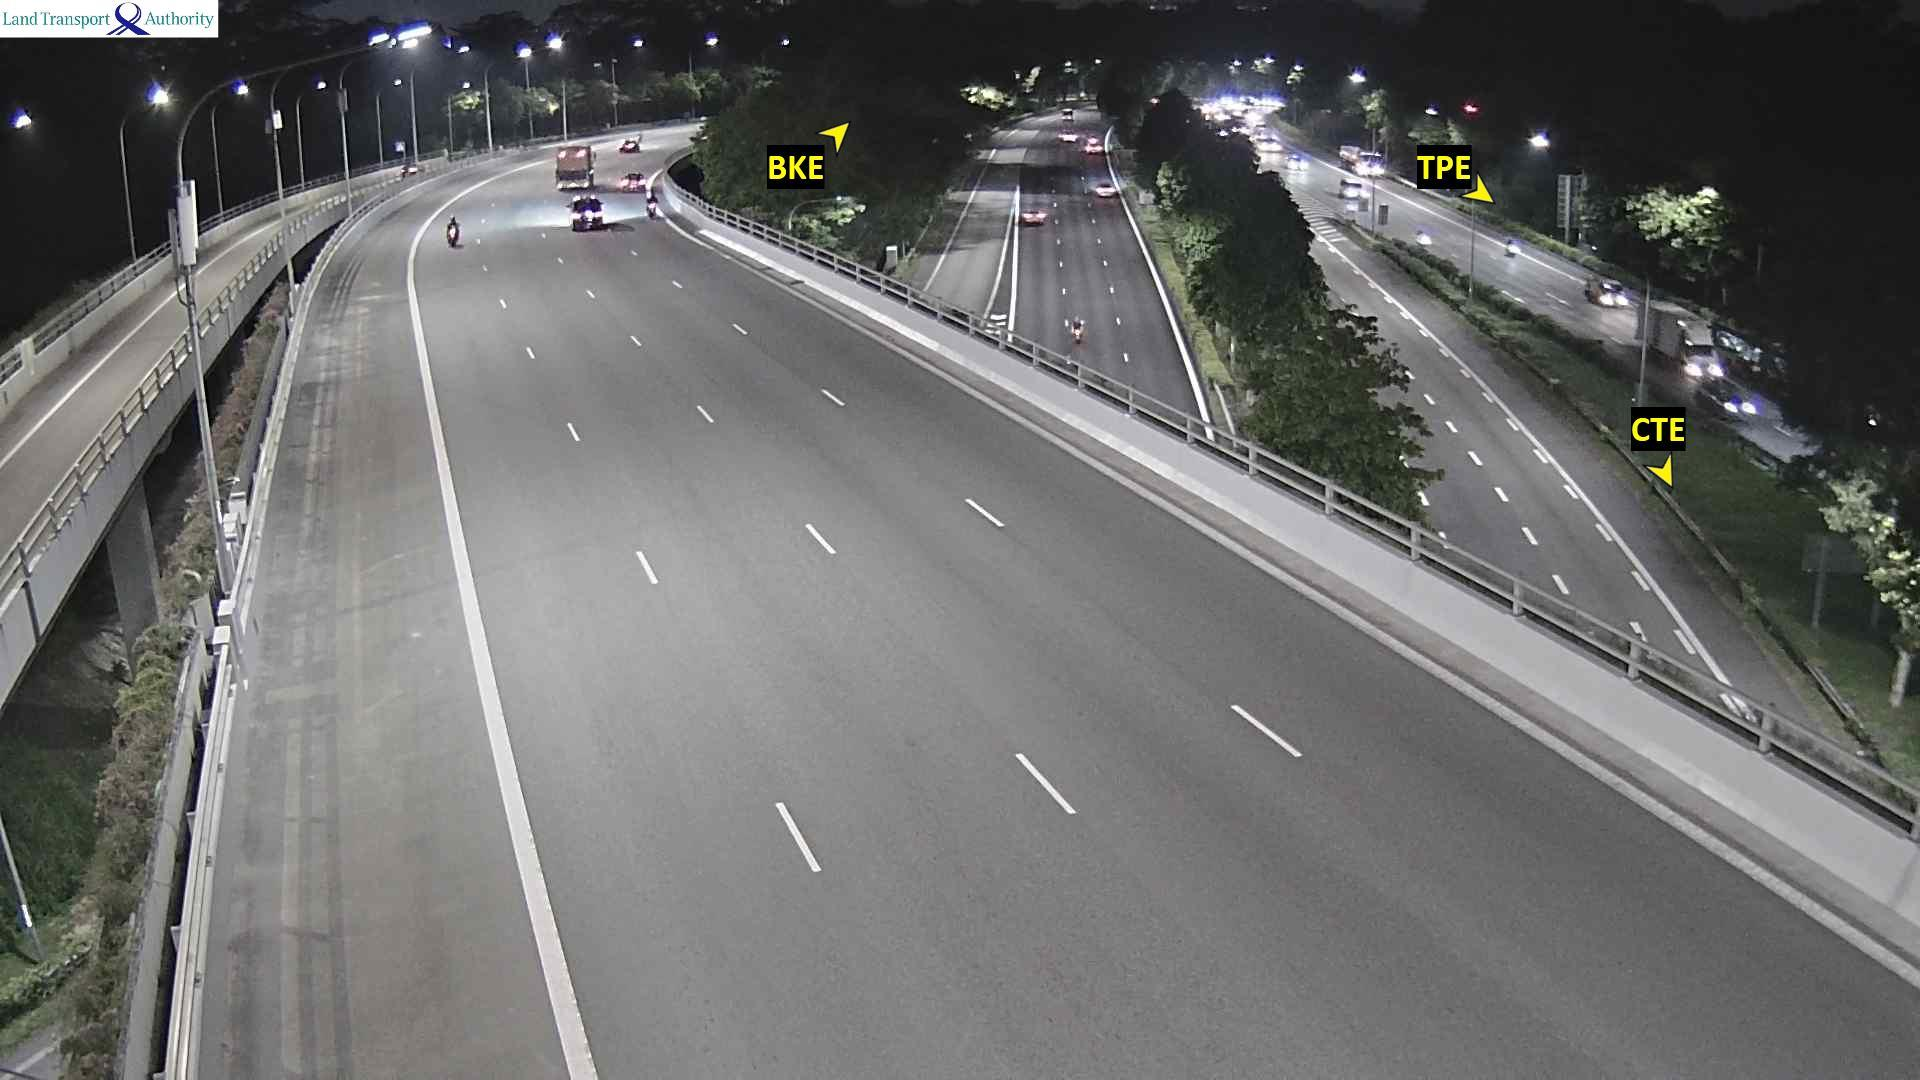incoming: (1683, 343, 1725, 385), (1723, 396, 1763, 419), (1598, 283, 1629, 309), (1359, 156, 1389, 179), (1292, 156, 1313, 173), (1348, 180, 1364, 200)
